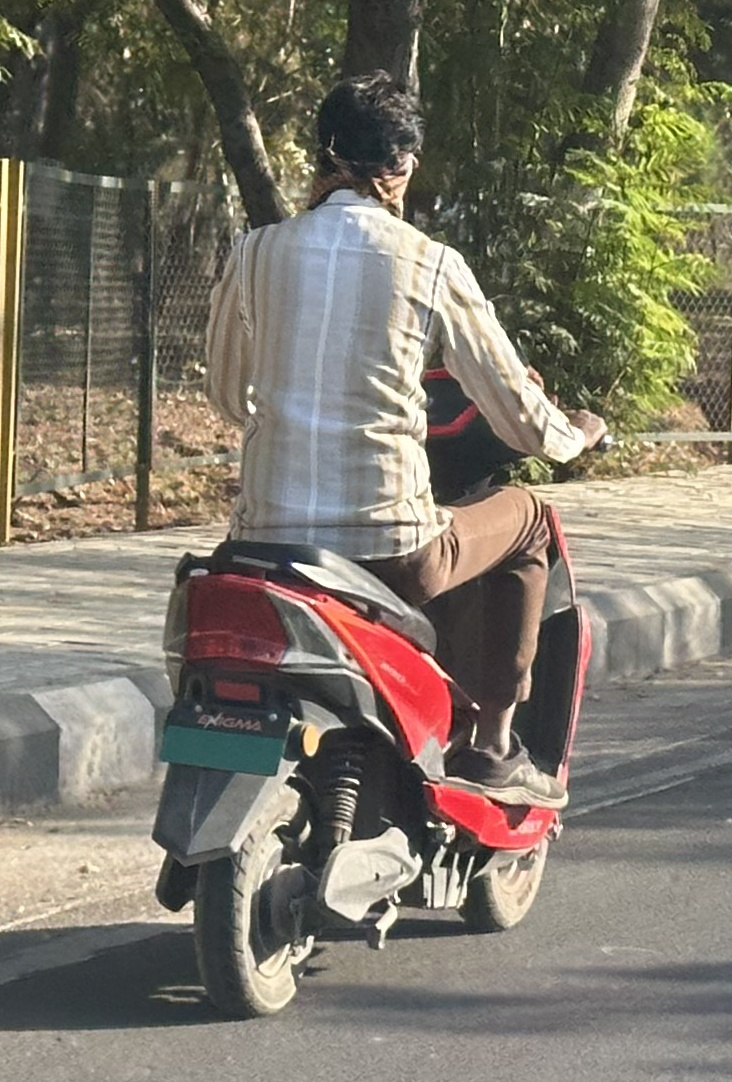BikeWithRider: (141, 65, 625, 1022)
NoHelmet: (303, 65, 428, 227)
